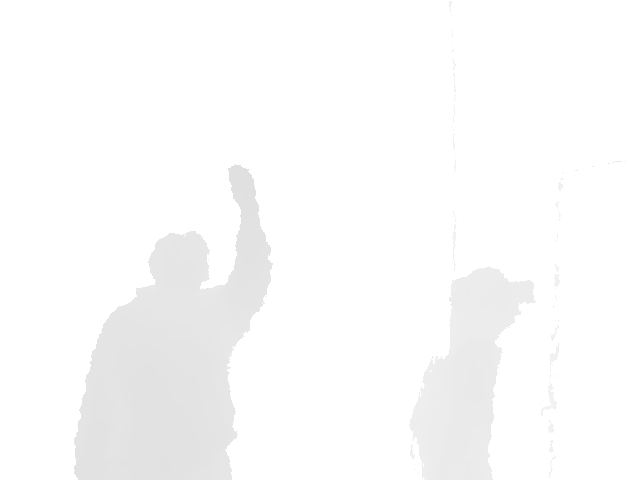hand: (226, 164, 259, 213)
head: (452, 267, 518, 345), (149, 230, 212, 295)
person: (72, 164, 274, 480), (410, 267, 540, 480)
